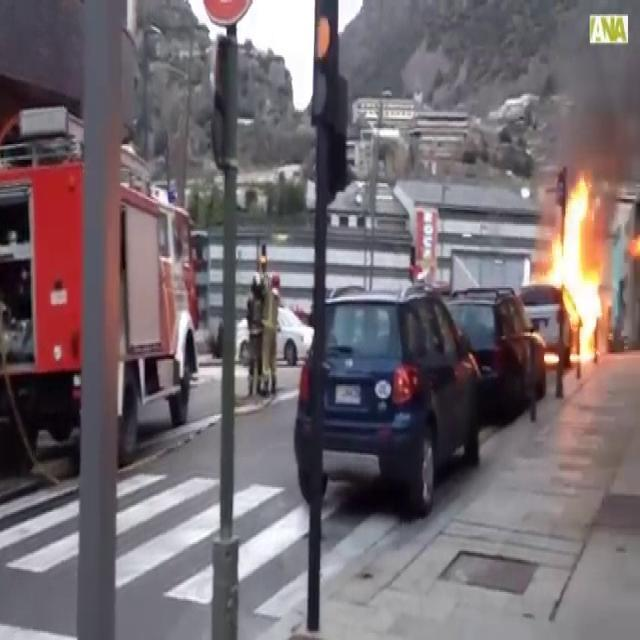Fire: (539, 170, 610, 362)
Smoke: (542, 19, 640, 188)
